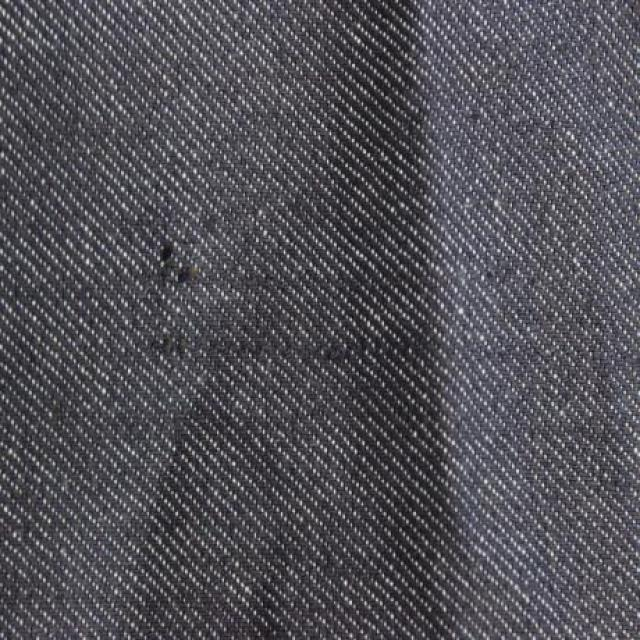Thread_other: (89, 171, 264, 377)
